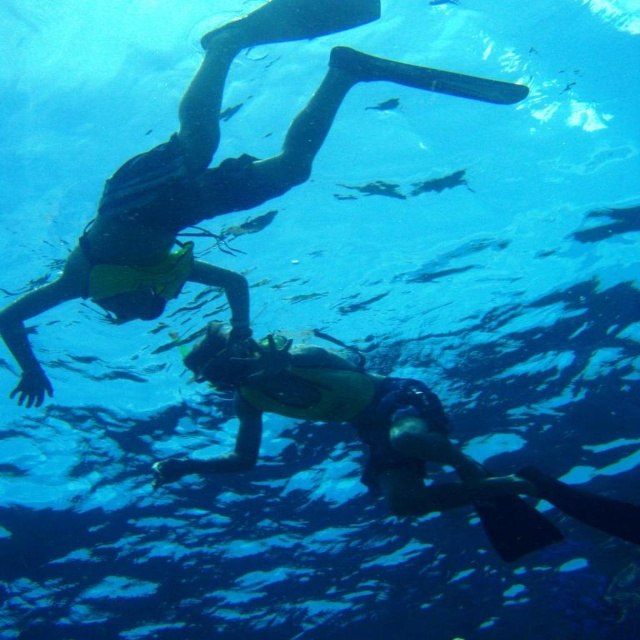Fish: (406, 166, 473, 199), (223, 213, 275, 233), (367, 94, 399, 108)
